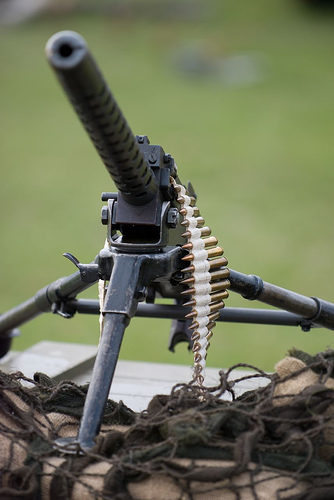rifle: (12, 27, 323, 469)
